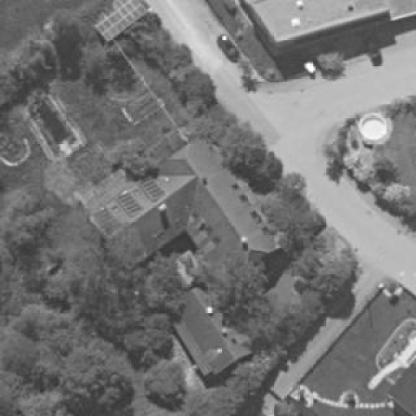solar-pv-panel: (92, 0, 147, 43), (137, 176, 164, 201), (116, 191, 143, 216), (93, 208, 119, 233)
